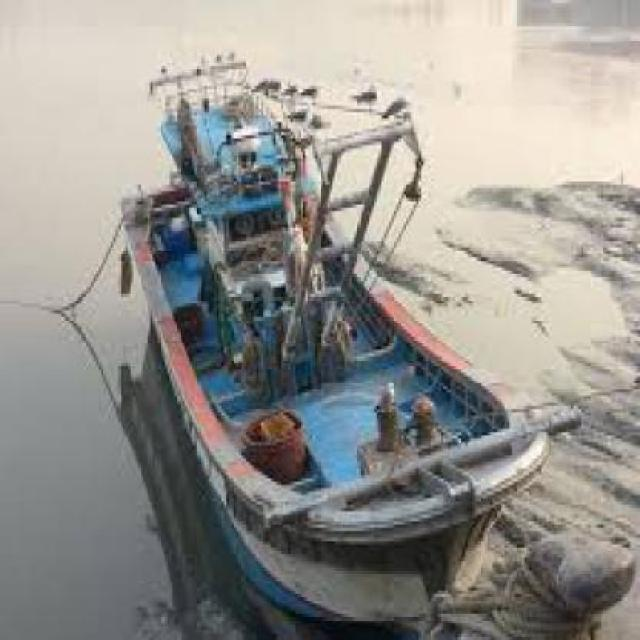fish-b: (94, 47, 560, 632)
